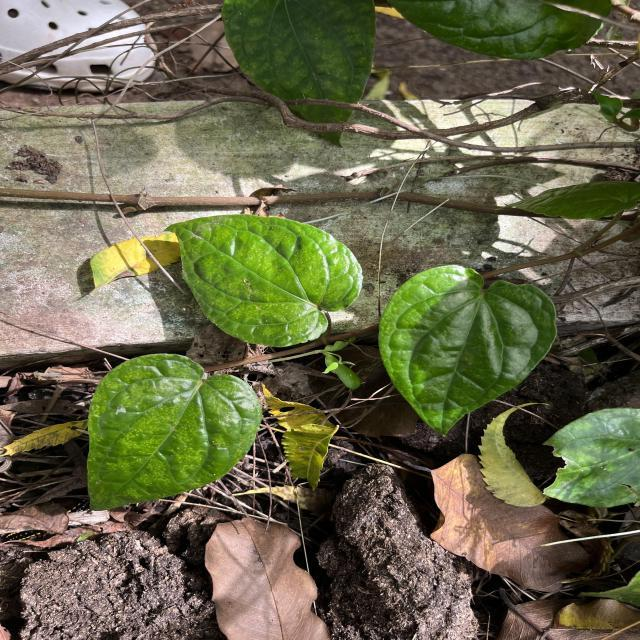Piper betle: (376, 264, 560, 439), (84, 352, 264, 512), (160, 213, 364, 348)
